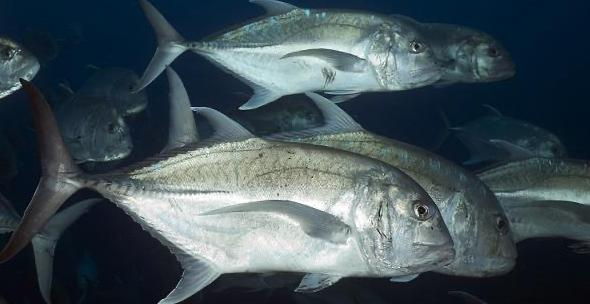Carangidae -Jacks-: (0, 69, 457, 301), (120, 2, 439, 113)
